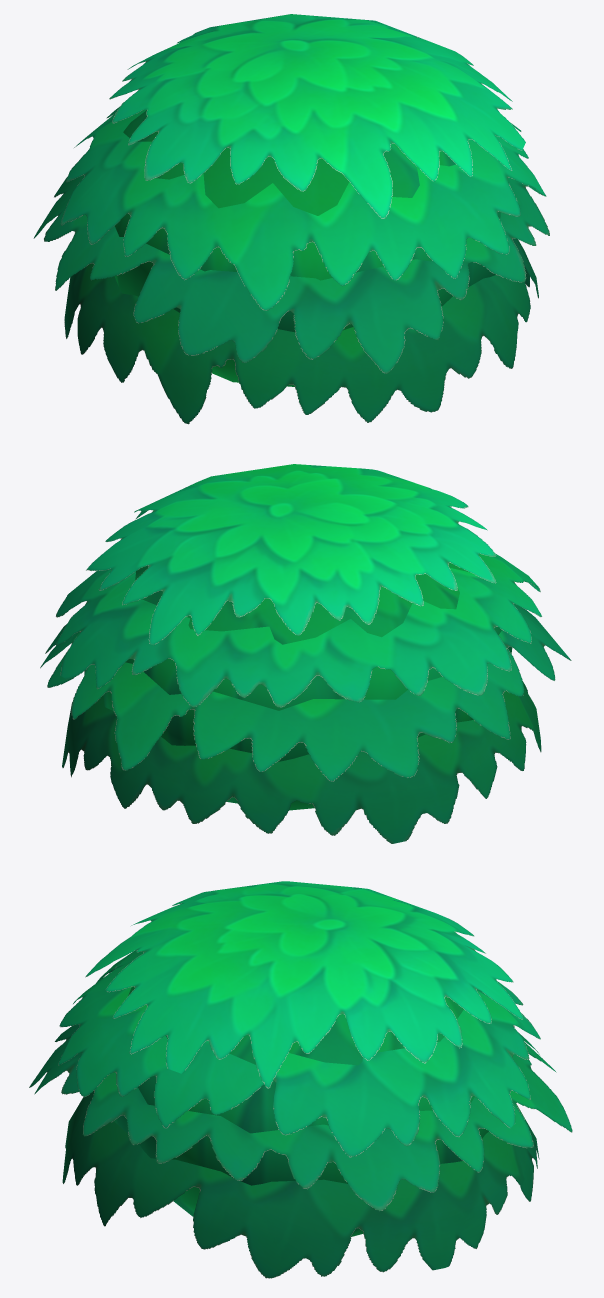
Rendered from Bush.fbx.
The picture shows the model from 3 angles, top to bottom: view 1: azimuth 30°, elevation 25°; view 2: azimuth 150°, elevation 25°; view 3: azimuth 270°, elevation 25°; orthographic projection. The views are drawn at different scales.
Visible parts, largest first — view 1: stylized bush.007; view 2: stylized bush.007; view 3: stylized bush.007.
Part boxes in pixels (left/top/right/bottom): stylized bush.007: left=33, top=14, right=549, bottom=424; stylized bush.007: left=40, top=464, right=571, bottom=843; stylized bush.007: left=29, top=881, right=572, bottom=1278.
Size of the model in its own units: 499 by 264 by 501.
